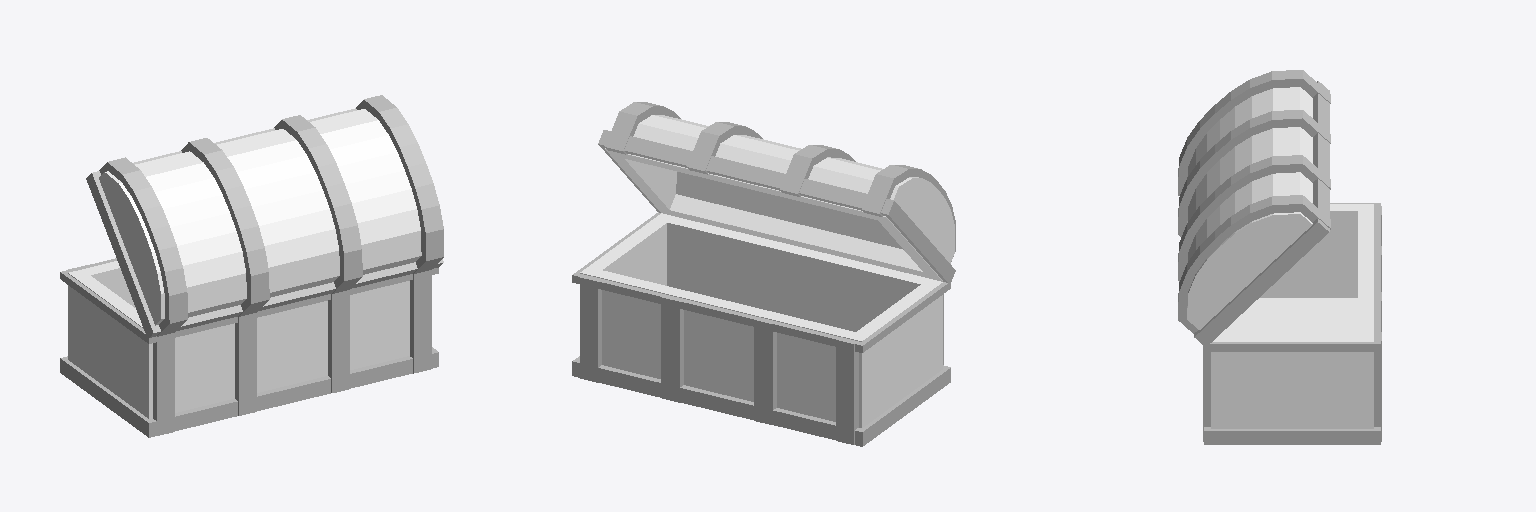
The model's file is caixa.obj.
3 renders of one model, left to right at view 1: azimuth 30°, elevation 25°; view 2: azimuth 150°, elevation 25°; view 3: azimuth 270°, elevation 25°, orthographic.
Visible parts, largest first — view 1: cover.1, body.1; view 2: body.1, cover.1; view 3: body.1, cover.1.
Part boxes in pixels (x1,y1,x2,y2): cover.1: (86,95,443,337); body.1: (60,258,438,437); body.1: (572,212,950,446); cover.1: (598,102,955,282); body.1: (1203,203,1381,444); cover.1: (1178,70,1330,346).
Size of the model in its own units: 165 by 129 by 100.